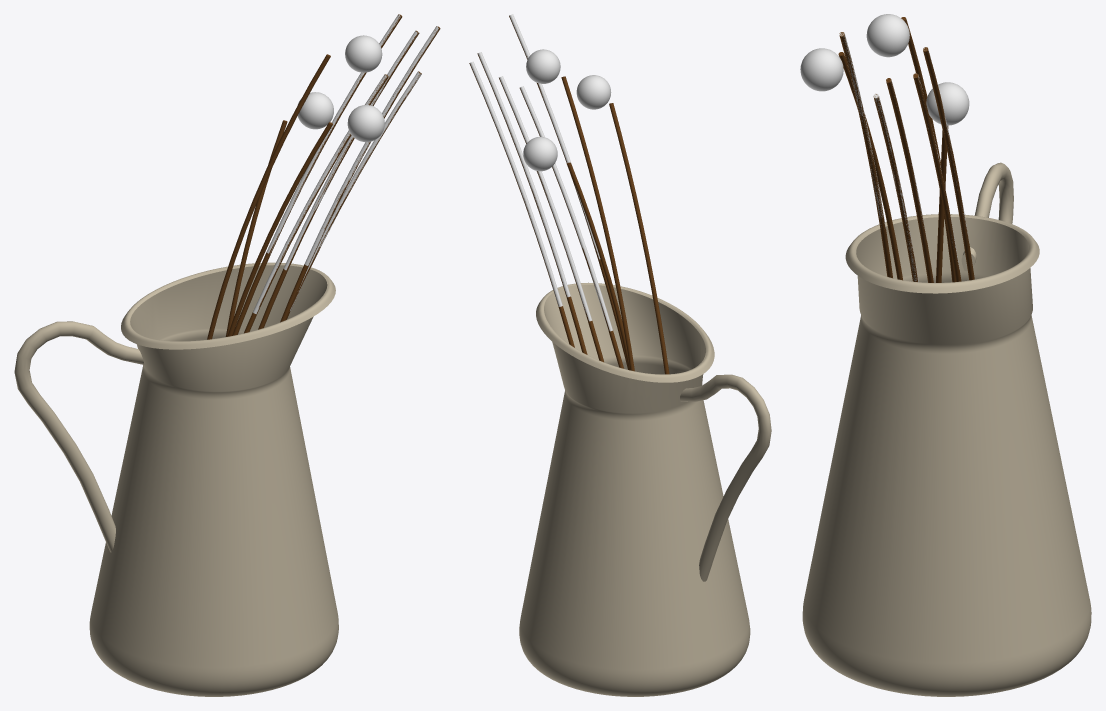
File: vase.fbx
3 views of the same model, side by side, from view 1: azimuth 30°, elevation 25°; view 2: azimuth 150°, elevation 25°; view 3: azimuth 270°, elevation 25° (orthographic). The views are drawn at different scales.
Parts seen in each view (by area): view 1: Cylinder001, Line001, decor vase, Cylinder008, Cylinder007, Sphere002, Sphere001, Sphere003, Cylinder006, Cylinder009, Cylinder003, Cylinder004 (+1 smaller); view 2: Cylinder001, decor vase, Line001, Cylinder008, Cylinder007, Cylinder009, Sphere002, Sphere001, Sphere003, Cylinder006, Cylinder004, Cylinder003 (+2 smaller); view 3: Cylinder001, Line001, decor vase, Sphere001, Sphere002, Cylinder004, Cylinder006, Cylinder003, Sphere003, Cylinder005, Cylinder002, Cylinder007 (+2 smaller).
Boxes of the visible parts, x1,y1,x2,y2 form: Cylinder001: (89,262,338,696); Line001: (14,321,144,552); decor vase: (253,14,438,314); Cylinder008: (207,54,330,339); Cylinder007: (227,122,332,336); Sphere002: (345,35,382,72); Sphere001: (347,105,384,142); Sphere003: (297,92,333,129); Cylinder006: (232,14,402,335); Cylinder009: (225,120,287,336); Cylinder003: (258,30,419,329); Cylinder004: (280,26,440,322); Cylinder001: (519,282,750,696); decor vase: (470,14,612,331); Line001: (680,374,771,581); Cylinder008: (561,76,634,371); Cylinder007: (609,103,669,374); Cylinder009: (567,162,630,370); Sphere002: (526,49,560,83); Sphere001: (576,75,611,109); Sphere003: (523,136,557,171); Cylinder006: (477,53,587,354); Cylinder004: (509,16,628,369); Cylinder003: (469,63,574,347); Cylinder001: (802,214,1091,696); Line001: (961,162,1013,271); decor vase: (839,32,969,282); Sphere001: (800,48,843,91); Sphere002: (866,14,909,57); Cylinder004: (839,32,892,278); Cylinder006: (923,47,974,280); Cylinder003: (913,73,961,281); Sphere003: (926,82,969,125); Cylinder005: (886,78,933,282); Cylinder002: (873,94,917,281); Cylinder007: (838,52,902,280).
Bounding box in the file's own units: 518 × 839 × 309.
